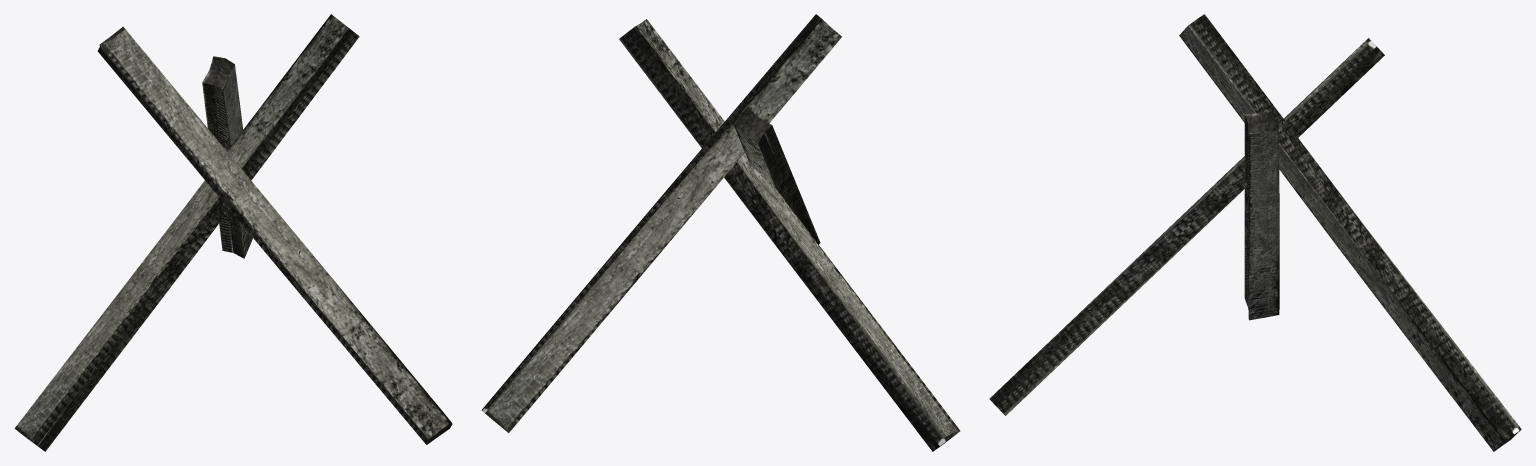
File: Debris001.fbx
The picture shows the model from 3 angles, left to right: view 1: azimuth 30°, elevation 25°; view 2: azimuth 150°, elevation 25°; view 3: azimuth 270°, elevation 25°; orthographic projection.
Parts seen in each view (by area): view 1: polySurface19; view 2: polySurface19; view 3: polySurface19.
Boxes of the visible parts, bbox=[...] form: polySurface19: bbox=[14, 14, 452, 451]; polySurface19: bbox=[481, 14, 960, 451]; polySurface19: bbox=[989, 14, 1521, 451].
Bounding box in the file's own units: 21.6 × 21.85 × 27.91.
